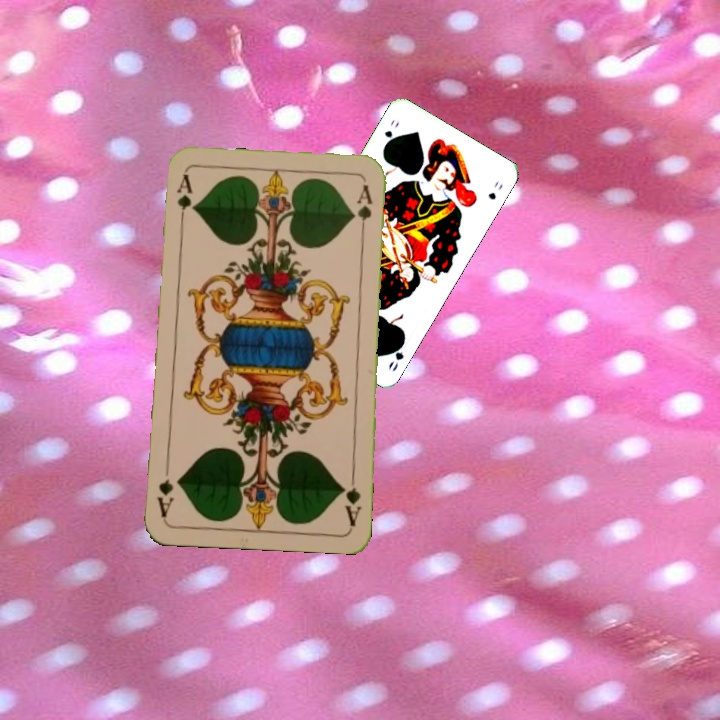GA: (338, 469, 364, 528), (173, 170, 193, 229)
GO: (384, 335, 408, 374), (380, 115, 402, 150)
